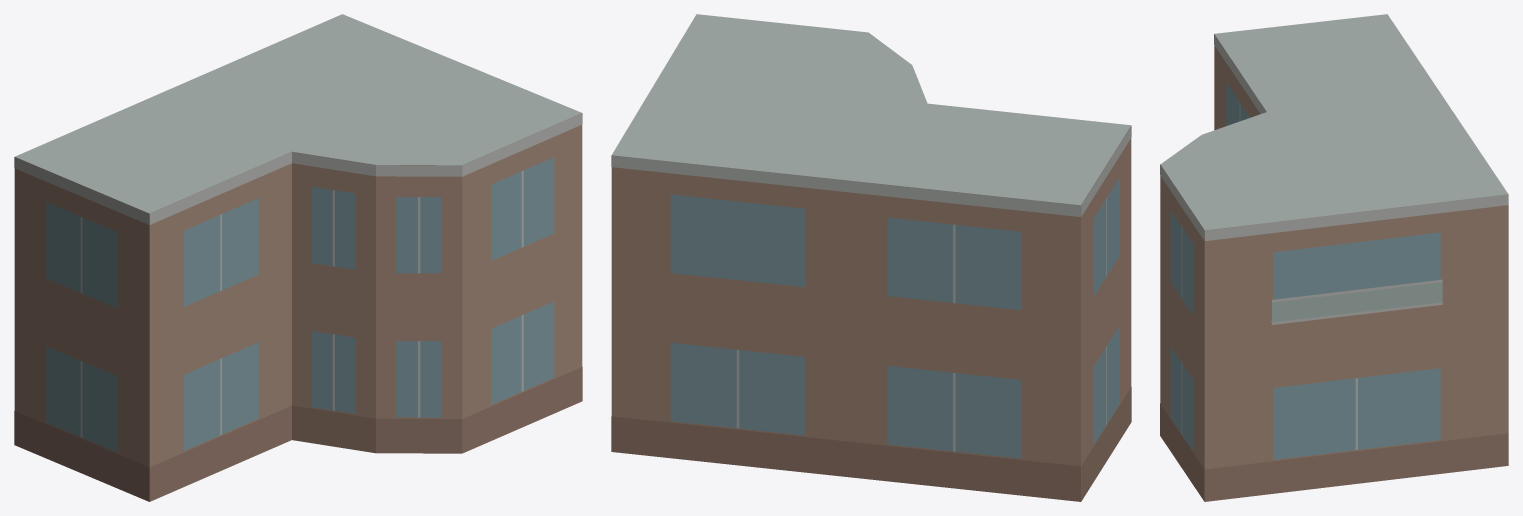
Rendered from survey-upis-33046800.glb.
3 renders of one model, left to right at view 1: azimuth 30°, elevation 25°; view 2: azimuth 150°, elevation 25°; view 3: azimuth 270°, elevation 25°, orthographic. The views are drawn at different scales.
Visible parts, largest first — view 1: survey-upis-33046800.tmp; view 2: survey-upis-33046800.tmp; view 3: survey-upis-33046800.tmp.
Part boxes in pixels (x1,y1,x2,y2): survey-upis-33046800.tmp: (14, 14, 582, 501); survey-upis-33046800.tmp: (611, 14, 1131, 501); survey-upis-33046800.tmp: (1160, 14, 1508, 501).
Bounding box in the file's own units: 10.44 × 6.1 × 7.1.
